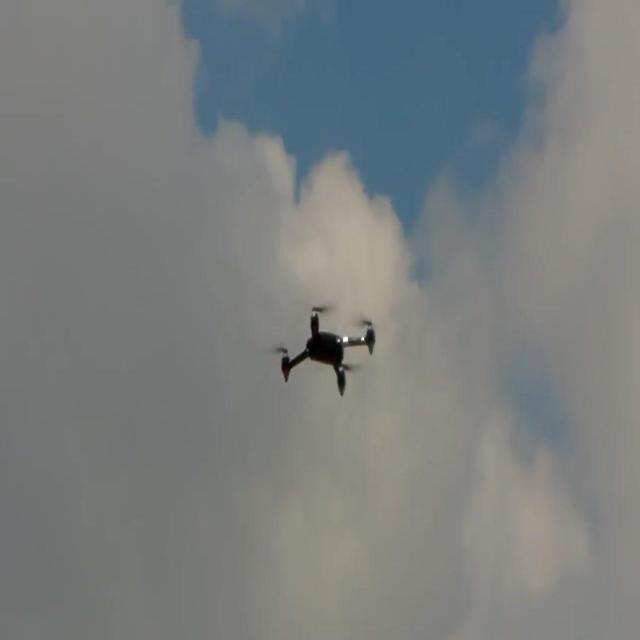drone: (279, 302, 377, 400)
